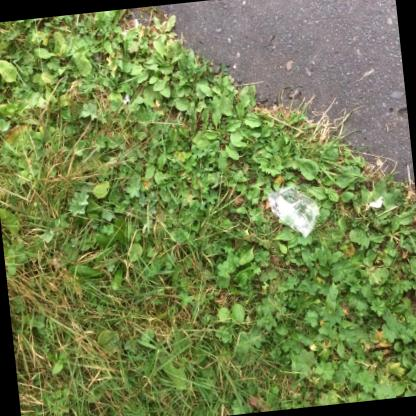Plastic: (266, 185, 320, 237)
